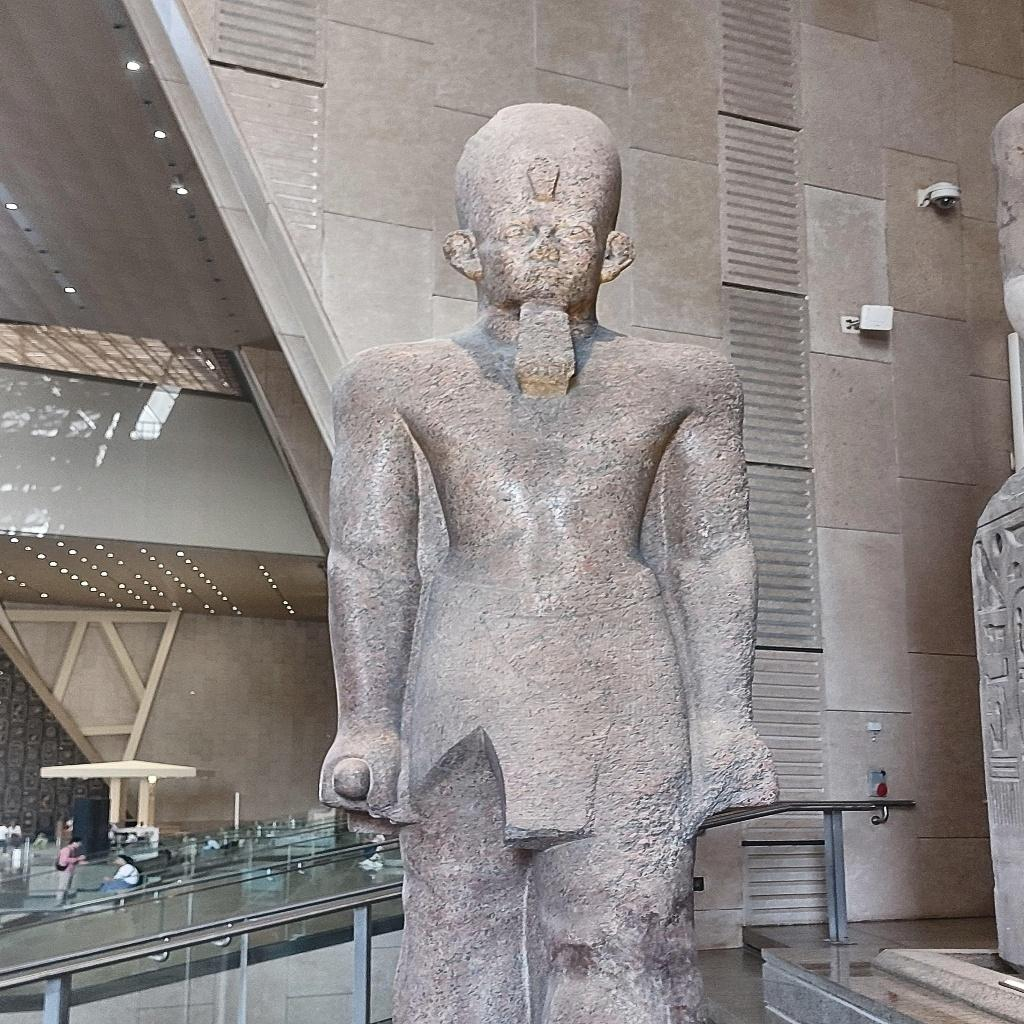Colossal Statue of King Senwosret IlI: (311, 98, 783, 1020)
